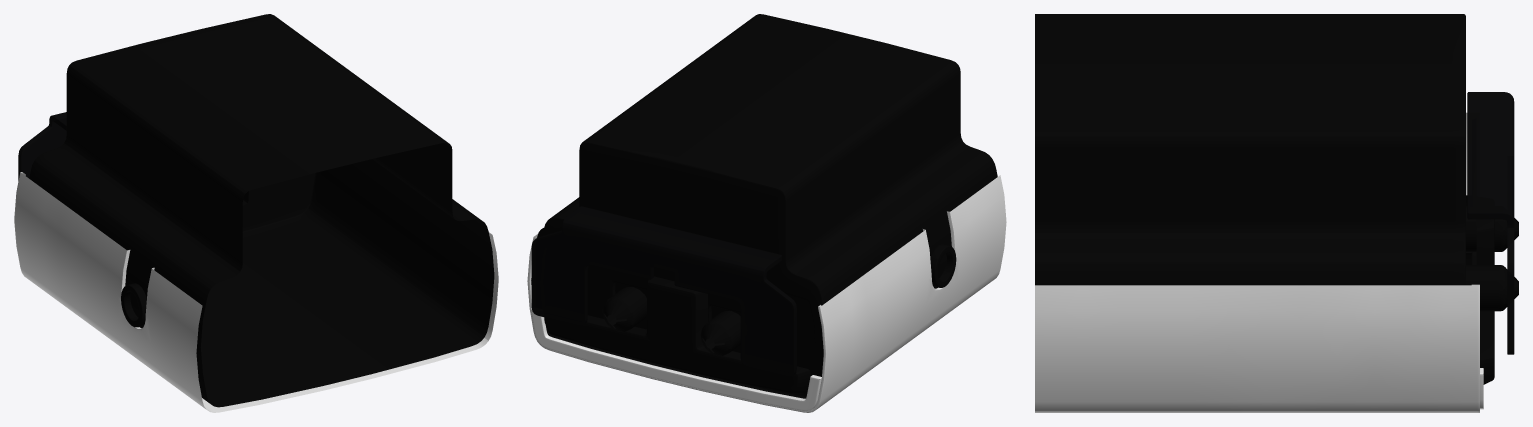
The model's file is SM_Kaffeemaschine_Metallteil.obj.
The picture shows the model from 3 angles, left to right: view 1: azimuth 30°, elevation 25°; view 2: azimuth 150°, elevation 25°; view 3: azimuth 270°, elevation 25°; orthographic projection. The views are drawn at different scales.
Visible parts, largest first — view 1: SM_Kaffeemaschine_Metallteil; view 2: SM_Kaffeemaschine_Metallteil; view 3: SM_Kaffeemaschine_Metallteil.
Boxes of the visible parts, <box> form: SM_Kaffeemaschine_Metallteil: <box>14,14,498,412</box>; SM_Kaffeemaschine_Metallteil: <box>527,14,1006,412</box>; SM_Kaffeemaschine_Metallteil: <box>1035,14,1518,412</box>.
Bounding box in the file's own units: 0.0919 × 0.0645 × 0.1039.
3 materials, 1 textured.
